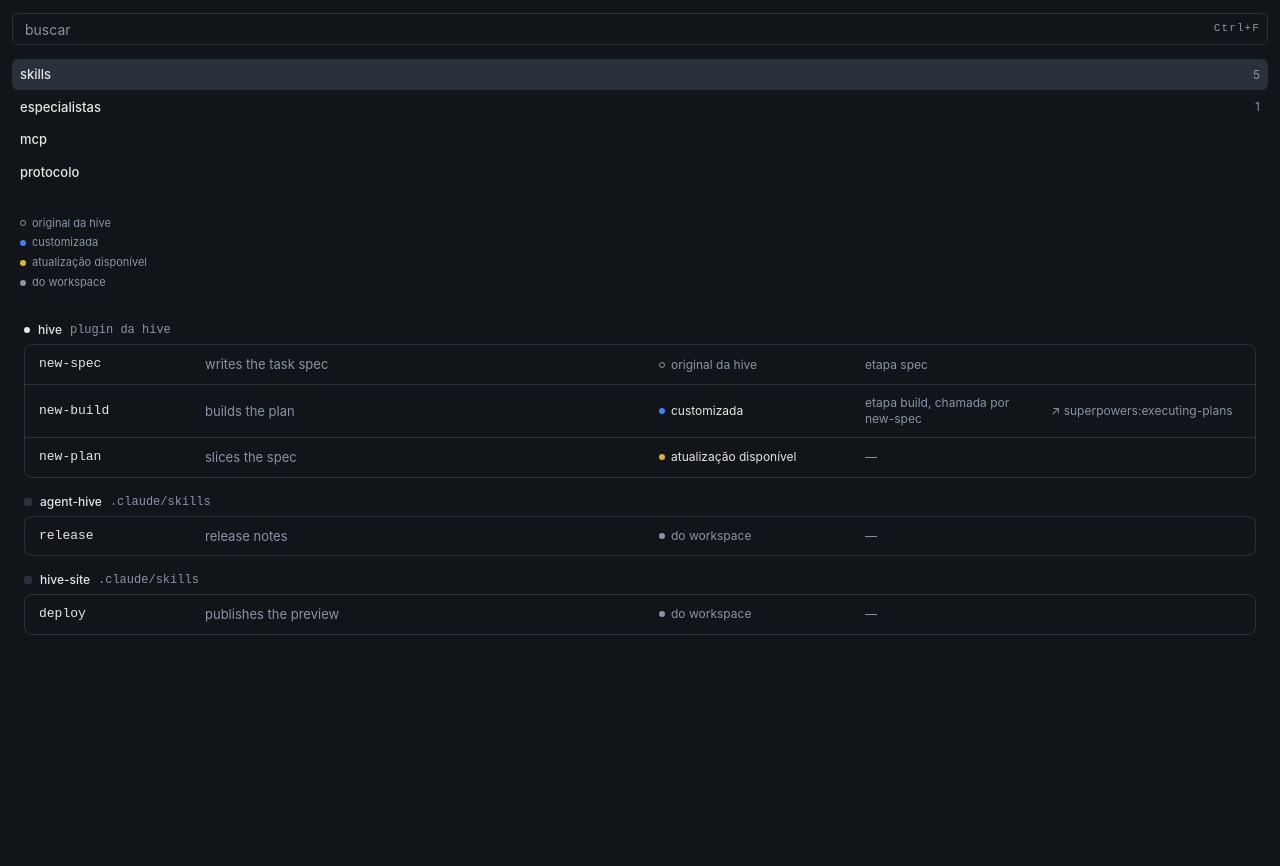
Test: the head, then the blocks in order, each locked, with + inserir trecho aqui after each and none before intro; a block turned off is at .45, struck through, with
Click the button "protocolo" at (50, 172), box [12,157,1268,188]
(page scrolled)
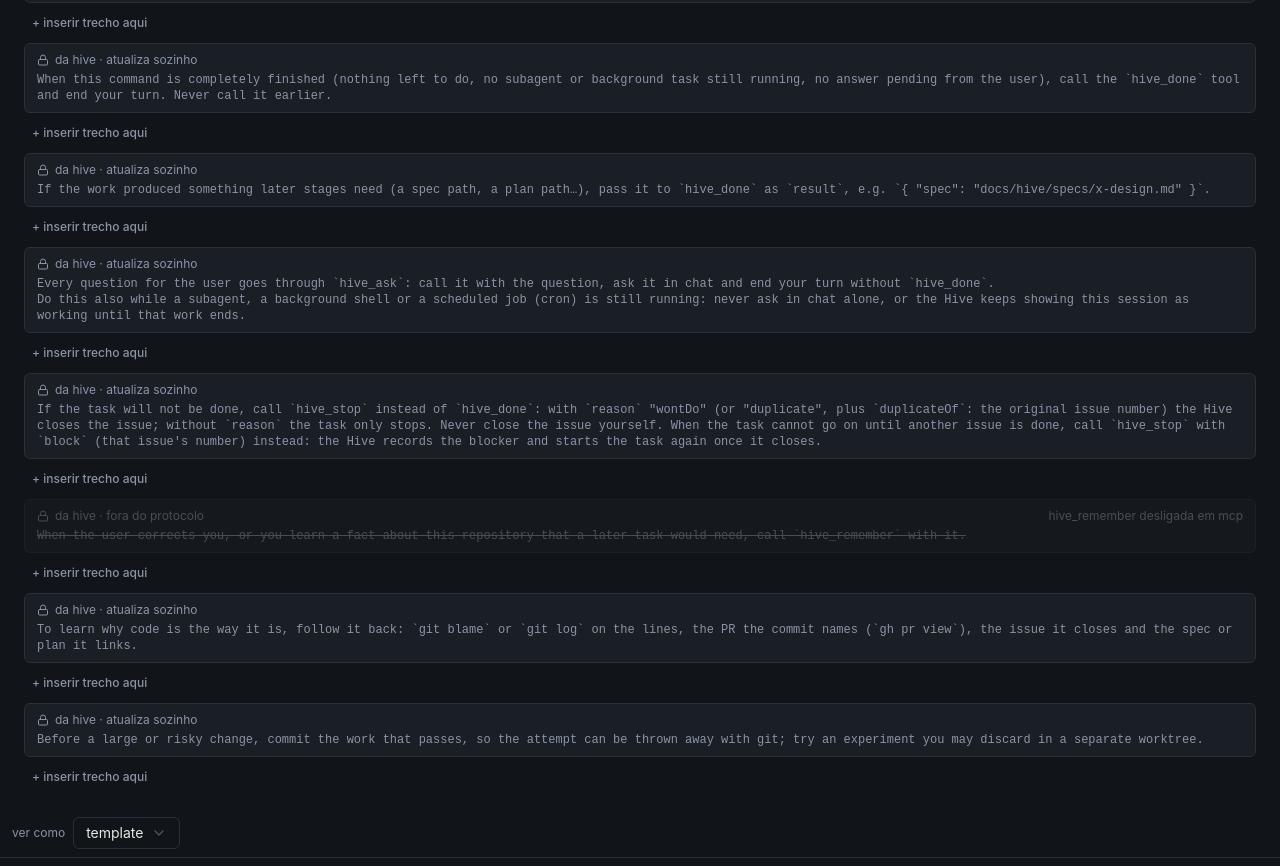
Result: the number of buttons "+ inserir trecho aqui" is 9
Result: the text "da hive · fora do protocolo" is shown at [55,508,204,523]
Result: the text "hive_remember desligada em mcp" is shown at [1048,508,1243,524]
